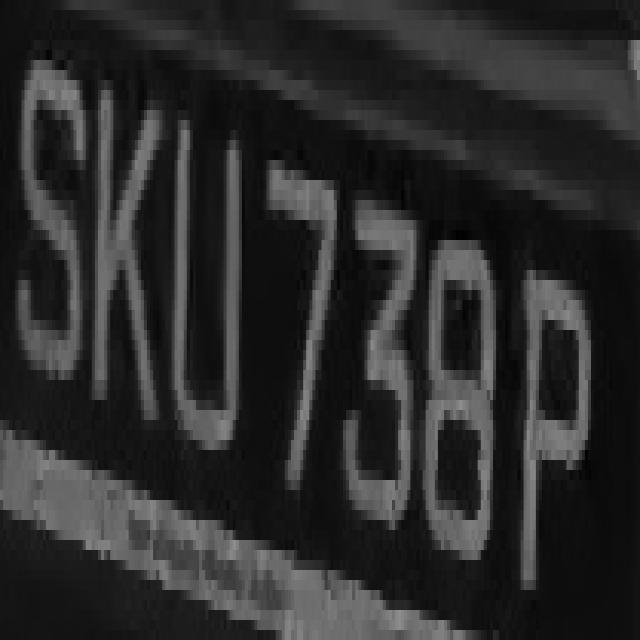3: (346, 150, 413, 570)
7: (260, 120, 343, 530)
8: (419, 220, 512, 590)
K: (83, 50, 162, 450)
P: (514, 210, 588, 610)
S: (15, 10, 92, 410)
U: (165, 90, 245, 490)
